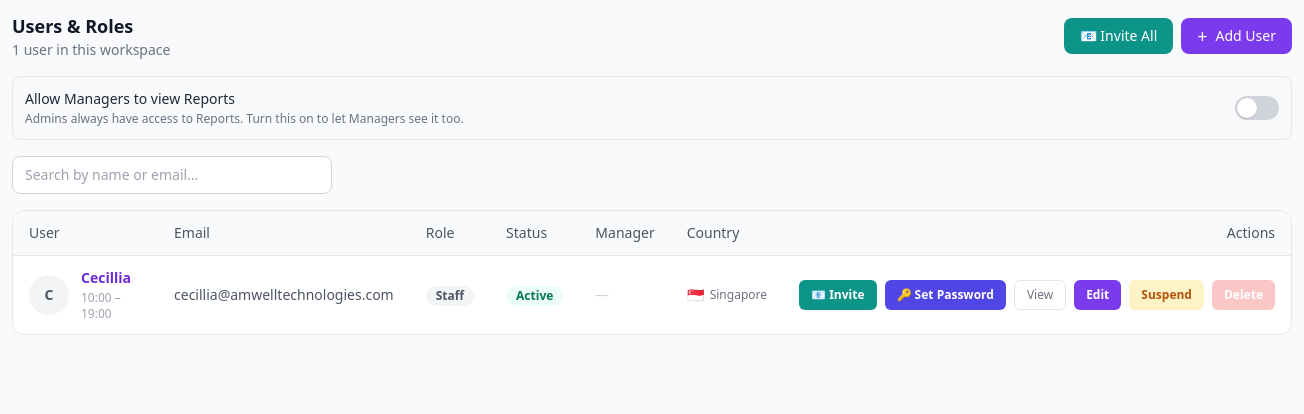
Test: UsersTab — per-row and bulk invite › invites a single user via the per-row Invite button
Expected: the text "cecillia@amwelltechnologies.com" is shown, [158,256,410,334]
Click the button "📧 Invite" at (838, 295), box [799,280,876,310]
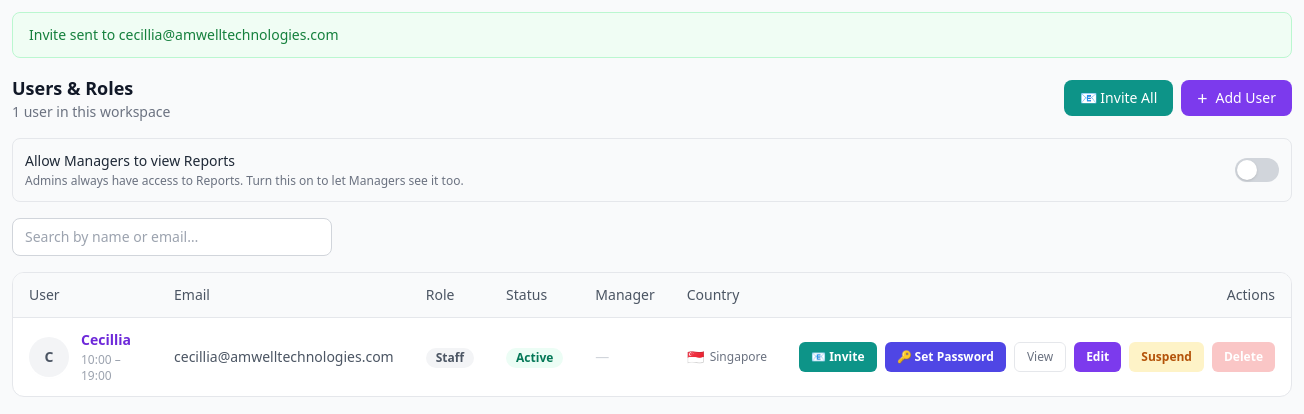
Now the text "Invite sent to cecillia@amwelltechnologies.com" is shown, box [12,12,1292,58]
